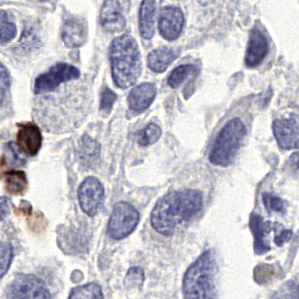Lymphocyte: (13, 118, 45, 156)
